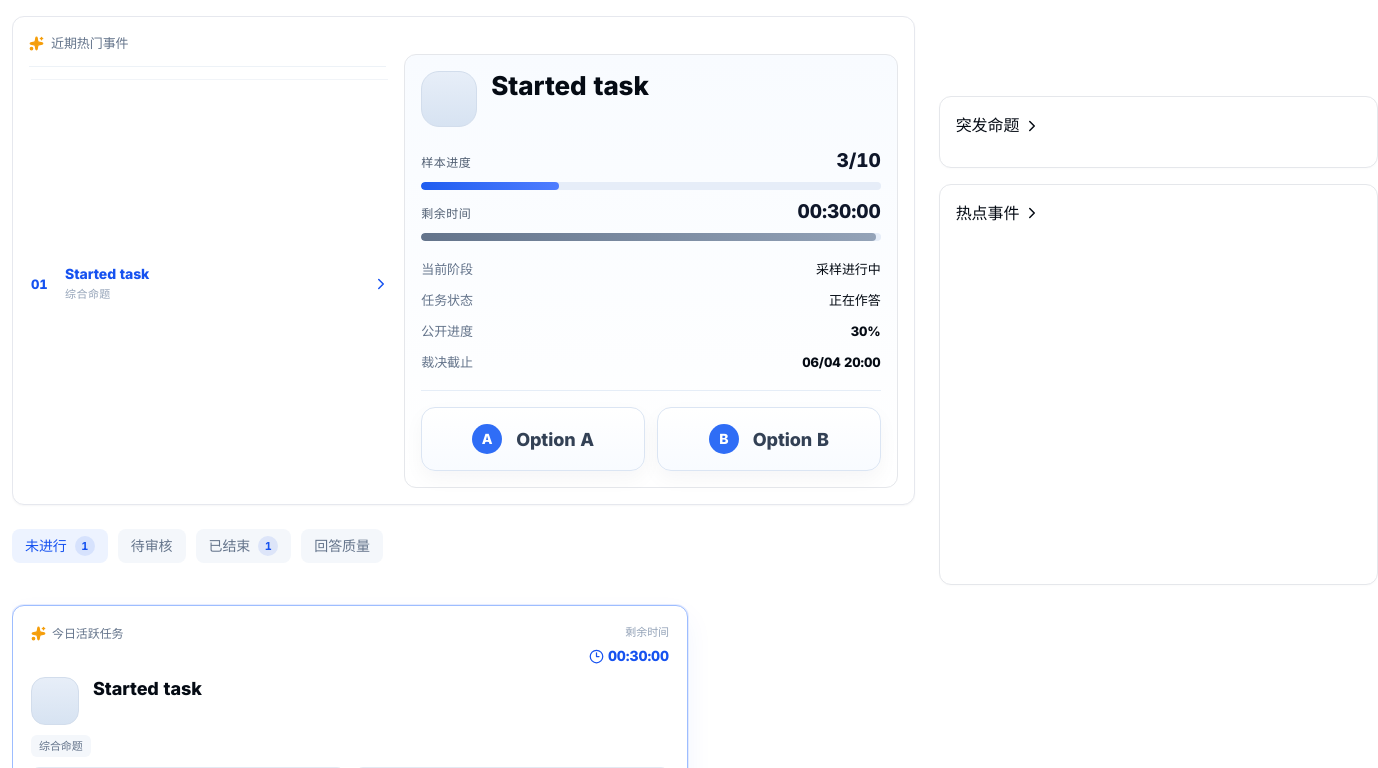
Scenario: AdjudicationPage lifecycle integration › keeps expired tasks out of the active lead slot and pending tab
The image size is (1378, 768).
expect the text "Started task" is shown 3 times: met, box [65, 264, 149, 282]; [491, 70, 649, 101]; [93, 678, 202, 699]
expect the text "Expired task" is not shown: met
Step 1. Click the button "已结束 1" → (243, 546), box [196, 529, 291, 563]
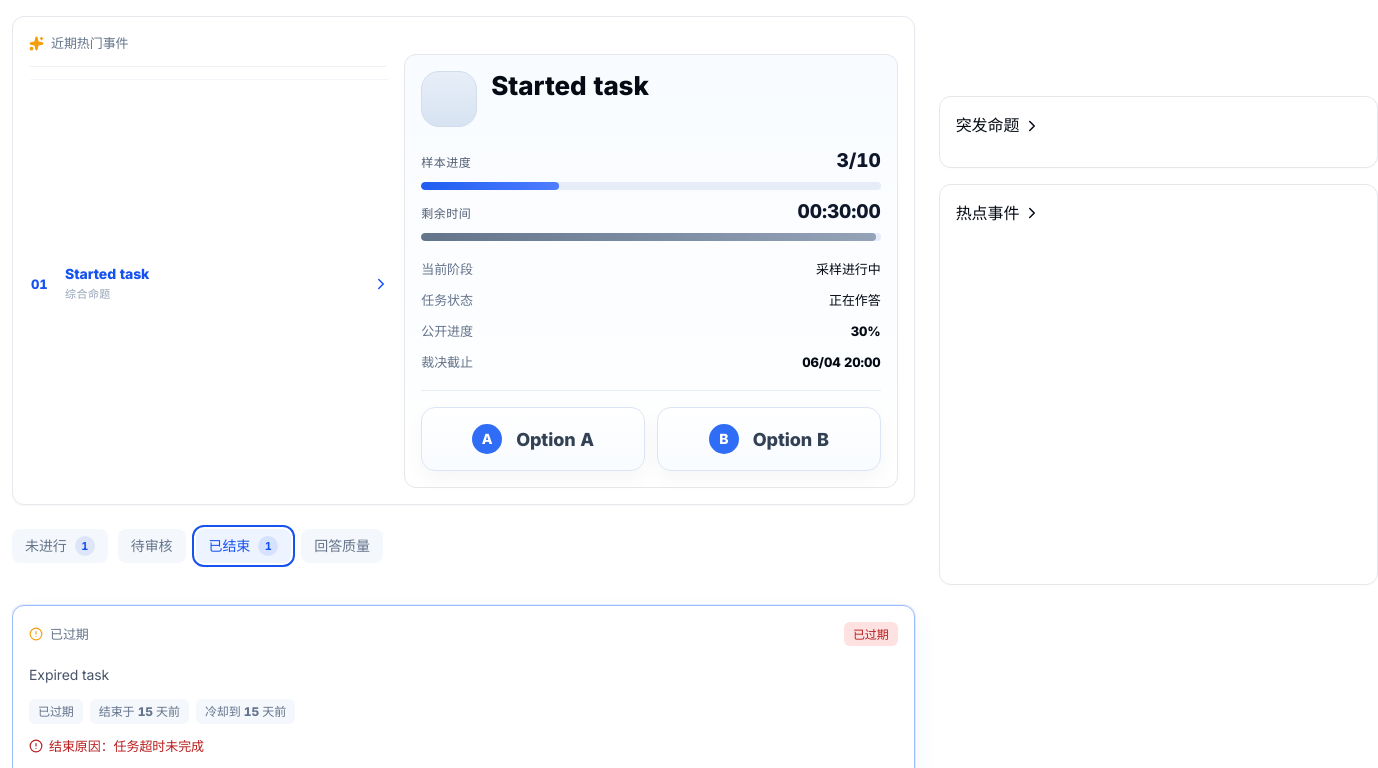
expect the heading "Expired task" is shown: met, box [29, 666, 109, 683]
